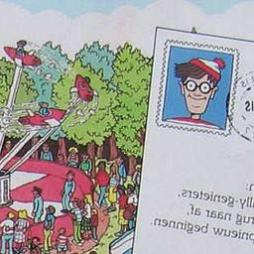wally: (163, 55, 228, 127)
